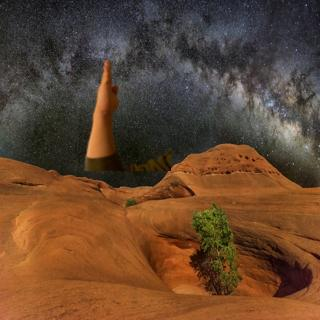RIGHT: (90, 55, 123, 120)
